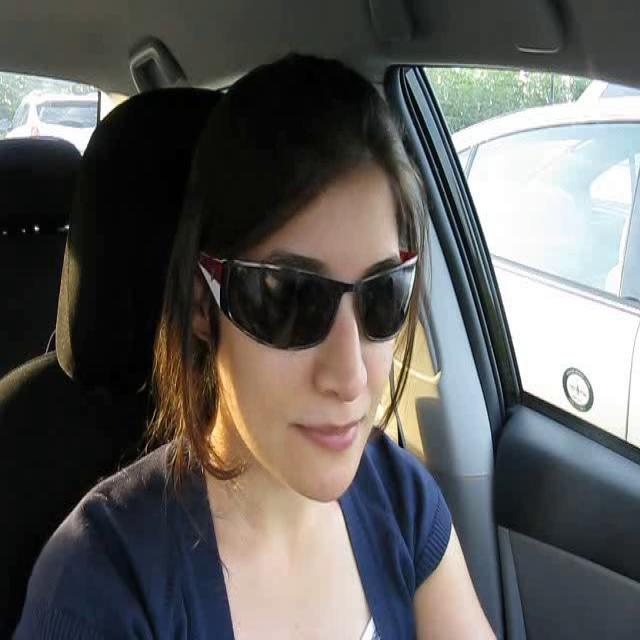close: (292, 413, 367, 457)
